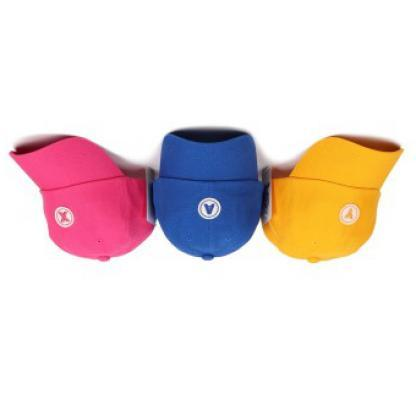cap: (260, 126, 406, 273), (2, 132, 156, 271)
